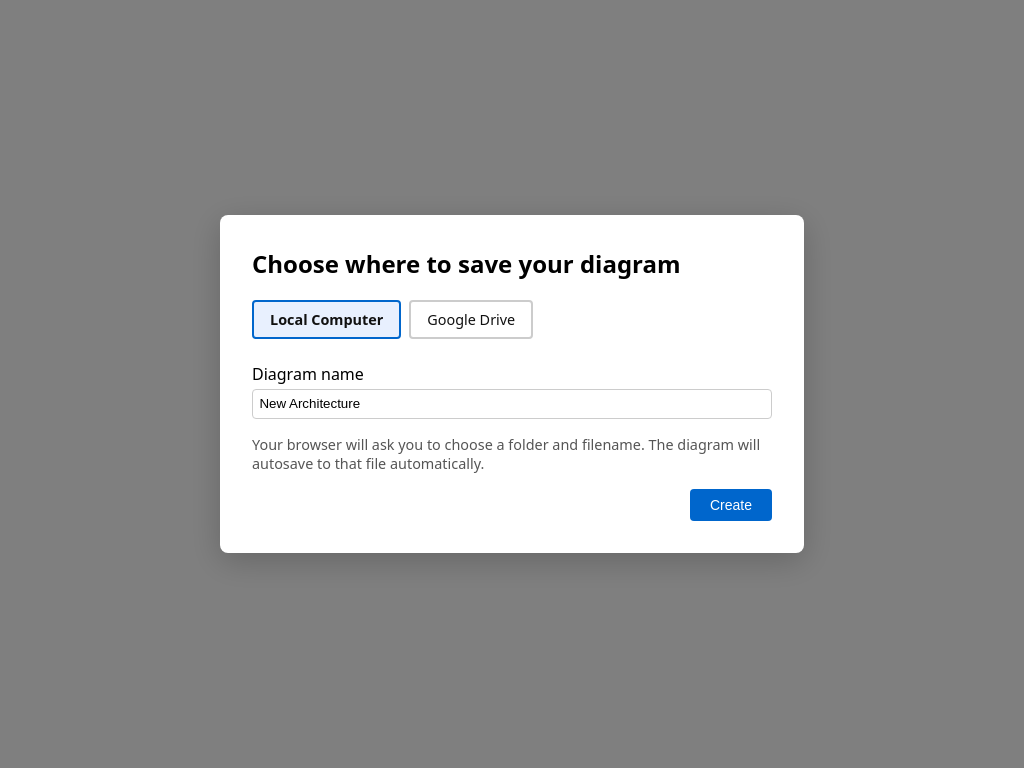
it: StoragePromptDialog — new mode (US1) › shows error message when picker returns an error
The width and height of the screenshot is (1024, 768).
Click the button "Create". click: (731, 505)
box: [690,489,772,521]
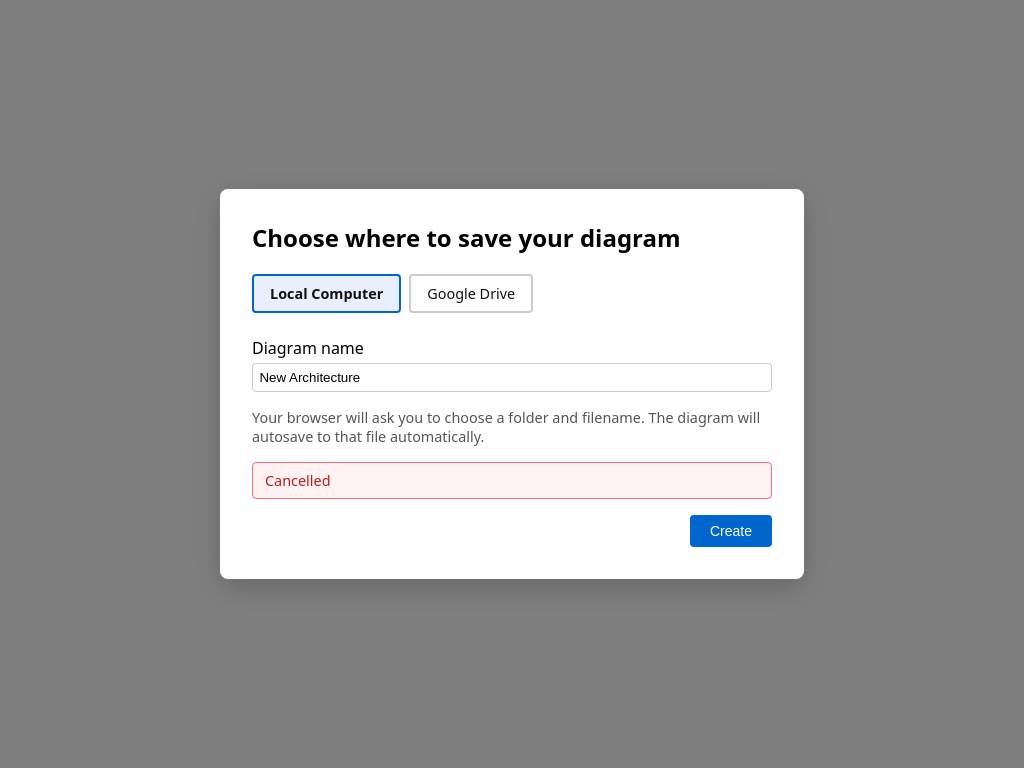
Now the message "Cancelled" is shown, box [252,462,772,499]
